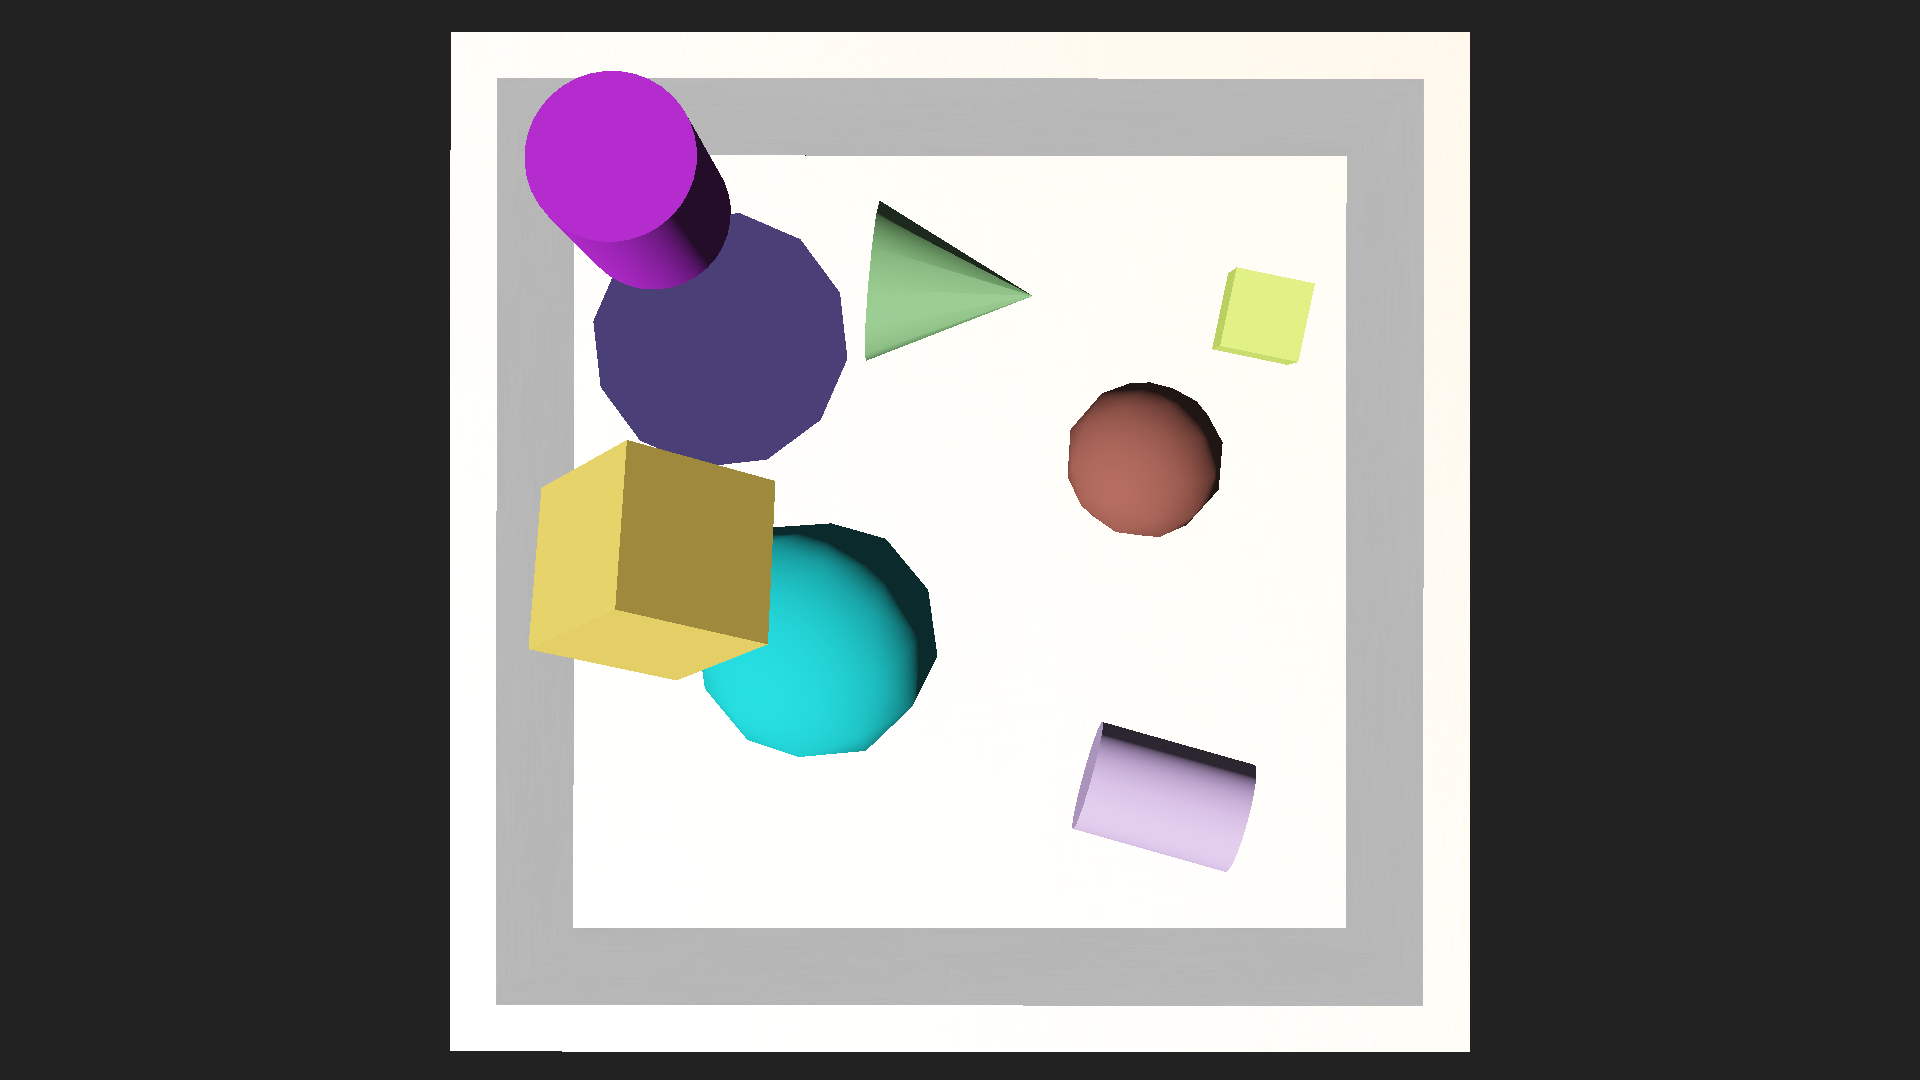3: (502, 436, 785, 694), (1211, 262, 1316, 367)
cone: (522, 69, 732, 290), (1069, 717, 1261, 878)
cylinder: (572, 193, 878, 496), (861, 175, 1043, 393)
sphere: (694, 516, 938, 760), (1064, 378, 1224, 539)
